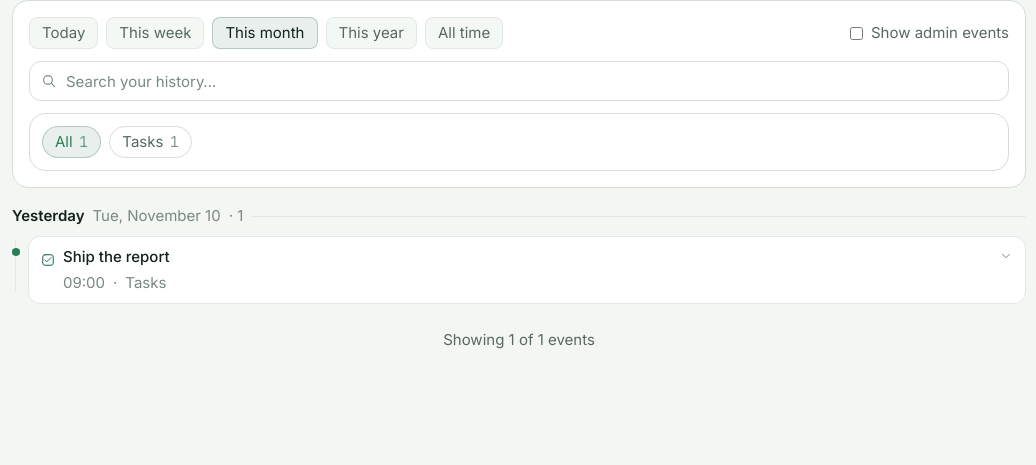
Test case: LifeTimeline — reading the feed › distinguishes "nothing matches" from "no history at all"
The image size is (1036, 465).
Type "zzzz" into the field. click: (519, 81)
box: [29, 61, 1009, 101]
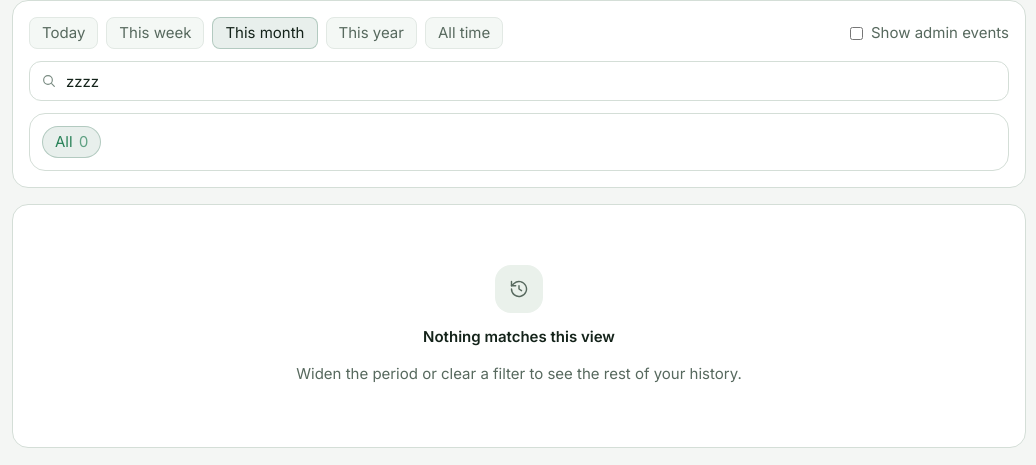
Check: the text "Nothing matches this view" is shown, box [423, 325, 615, 349]
